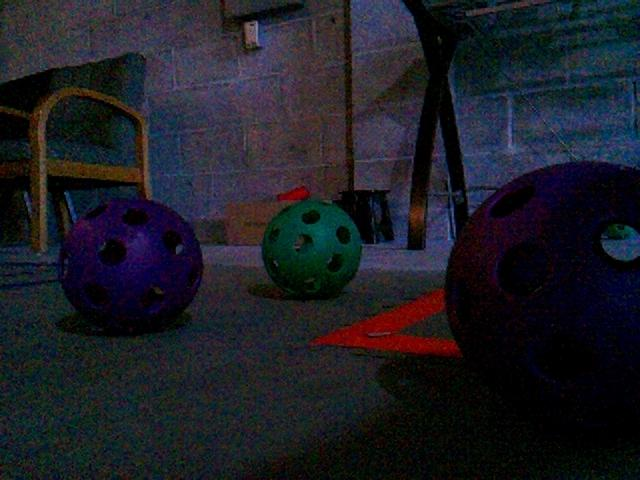Green: (260, 199, 363, 299)
Purple: (441, 164, 640, 426), (56, 199, 201, 332)
